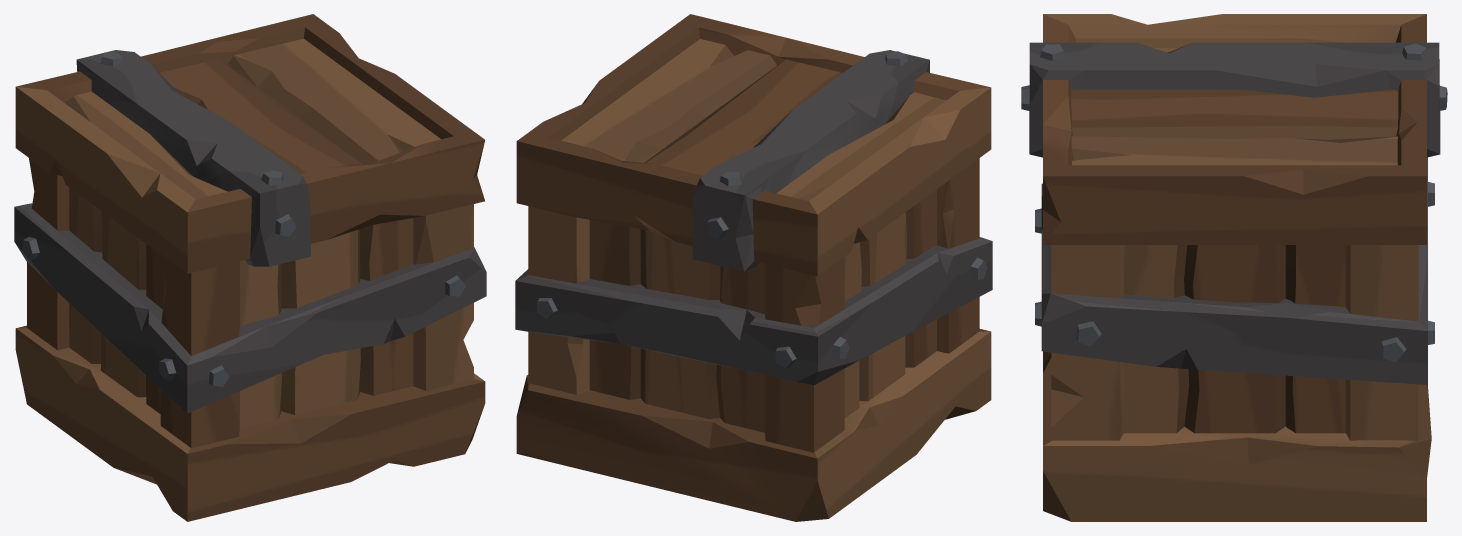
Rendered from bog_crate.gltf.
The picture shows the model from 3 angles, left to right: view 1: azimuth 30°, elevation 25°; view 2: azimuth 150°, elevation 25°; view 3: azimuth 270°, elevation 25°; orthographic projection. The views are drawn at different scales.
Parts seen in each view (by area): view 1: bog_crate; view 2: bog_crate; view 3: bog_crate.
Boxes of the visible parts, box(x1,y1,x2,y2) form: bog_crate: box(14, 14, 486, 521); bog_crate: box(515, 14, 992, 521); bog_crate: box(1021, 14, 1447, 521).
Size of the model in its own units: 0.776 by 0.7663 by 0.82.
1 material, 1 textured.
